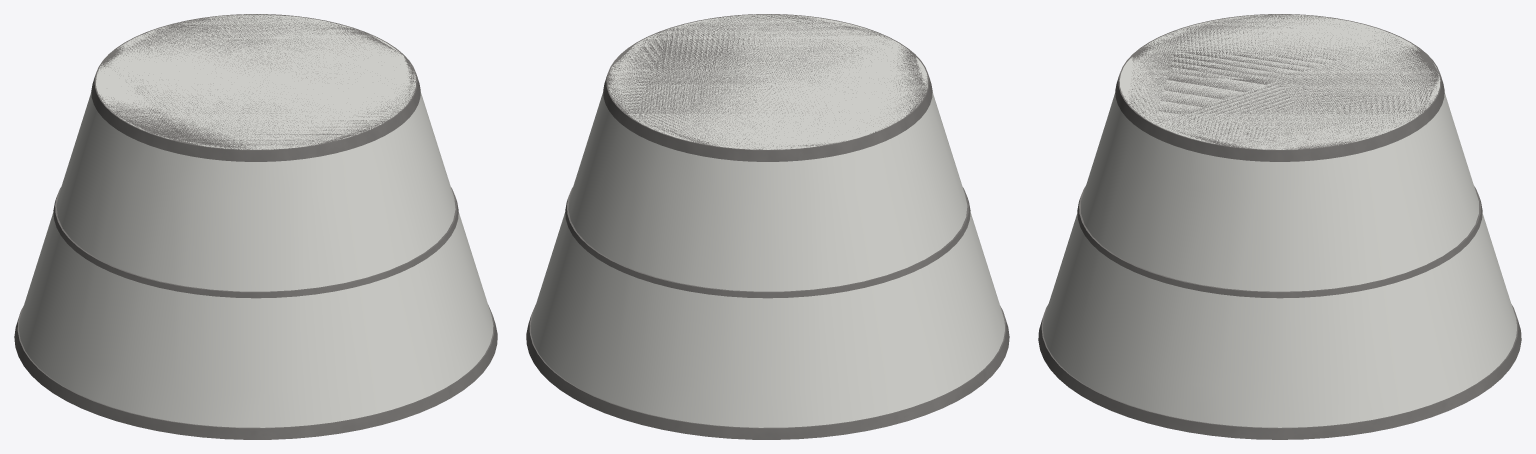
File: tank12_tank_adapter_m_l.glb
3 renders of one model, left to right at view 1: azimuth 30°, elevation 25°; view 2: azimuth 150°, elevation 25°; view 3: azimuth 270°, elevation 25°, orthographic.
Visible parts, largest first — view 1: shell, ring_frames, mid_frame; view 2: shell, ring_frames, mid_frame; view 3: shell, ring_frames, mid_frame.
Part boxes in pixels (left/top/right/bottom): shell: left=19, top=14, right=493, bottom=427; ring_frames: left=14, top=14, right=497, bottom=439; mid_frame: left=53, top=187, right=458, bottom=298; shell: left=530, top=14, right=1004, bottom=427; ring_frames: left=526, top=14, right=1009, bottom=439; mid_frame: left=565, top=187, right=970, bottom=298; shell: left=1043, top=14, right=1516, bottom=427; ring_frames: left=1038, top=14, right=1521, bottom=439; mid_frame: left=1077, top=186, right=1482, bottom=298.
Bounding box in the file's own units: 3.77 × 2.2 × 3.77.
3 materials, 1 textured.
